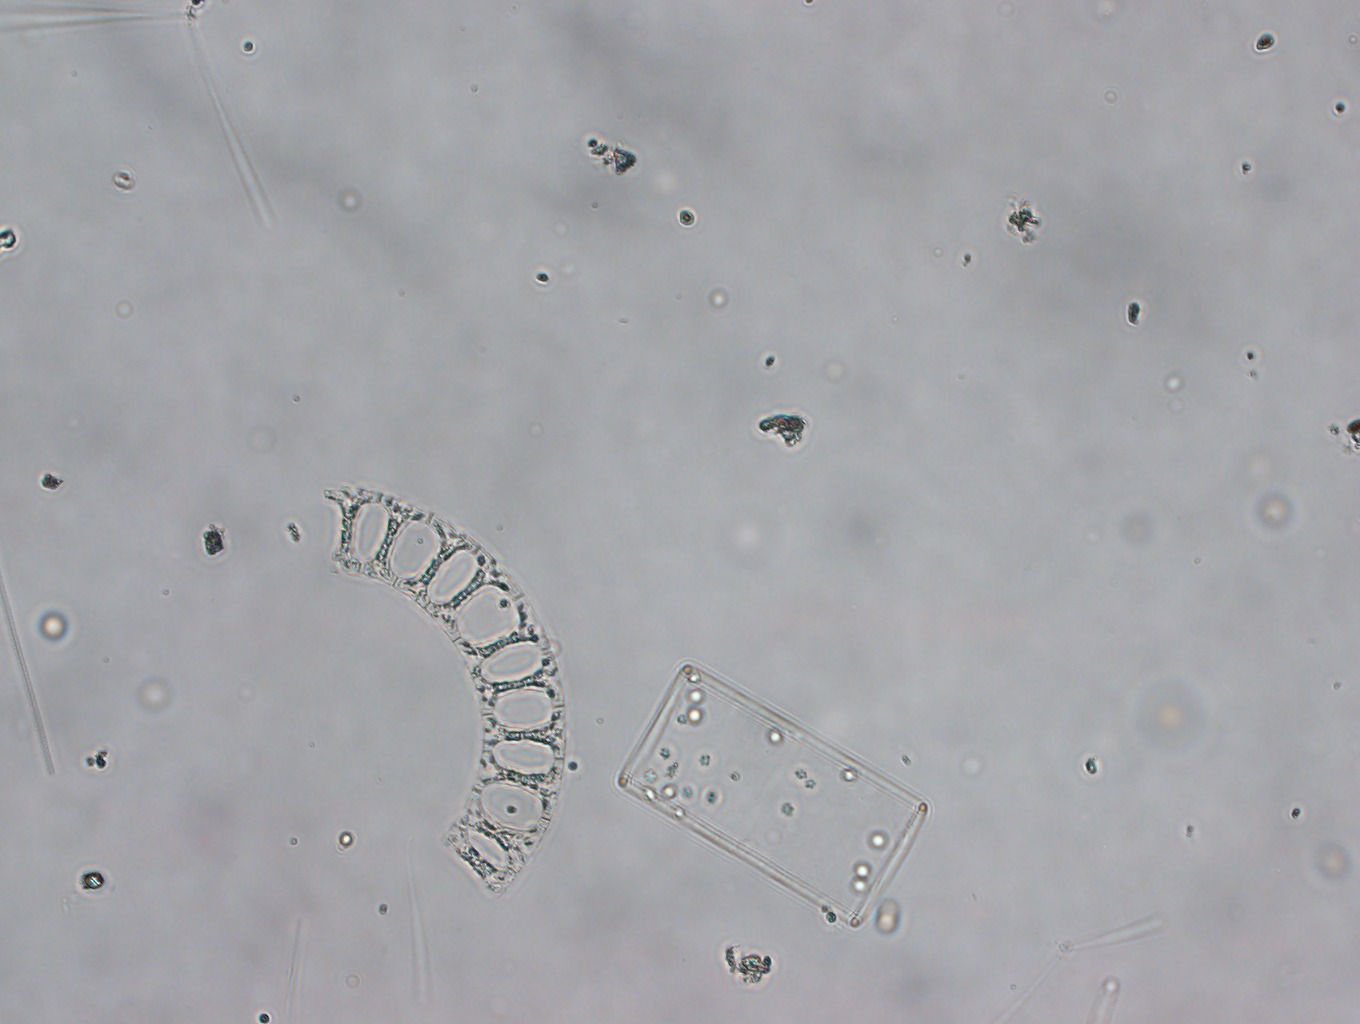eucampia: (311, 474, 574, 901)
guinardia flaccida: (612, 649, 935, 931)
